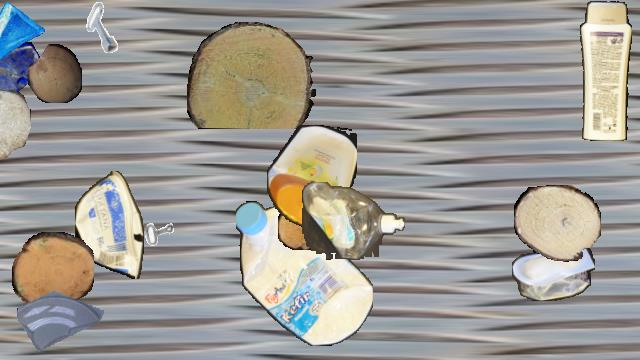glass: (17, 273, 103, 359), (0, 1, 45, 67), (0, 42, 44, 108)
metal: (125, 193, 183, 251), (78, 1, 130, 53)
plastic: (236, 200, 372, 346), (267, 125, 357, 227), (302, 182, 404, 260), (577, 1, 631, 141), (75, 171, 143, 279), (512, 240, 594, 300)
wood: (187, 22, 315, 128), (514, 185, 600, 261), (12, 232, 94, 310), (28, 44, 82, 102), (0, 89, 30, 159), (278, 204, 322, 250)
